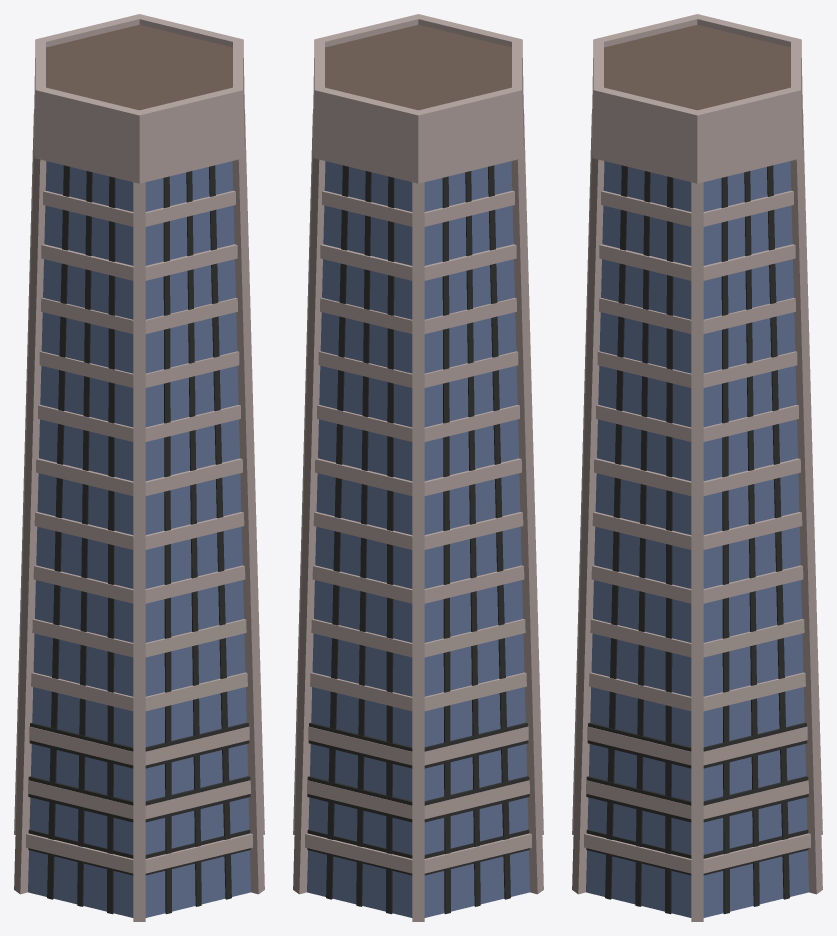
Rendered from LargeBuilding_02.fbx.
3 renders of one model, left to right at view 1: azimuth 30°, elevation 25°; view 2: azimuth 150°, elevation 25°; view 3: azimuth 270°, elevation 25°, orthographic.
Visible parts, largest first — view 1: LargeBuilding_02; view 2: LargeBuilding_02; view 3: LargeBuilding_02.
Part boxes in pixels (x1,y1,x2,y2): LargeBuilding_02: (14,14,264,921); LargeBuilding_02: (293,14,543,921); LargeBuilding_02: (572,14,822,921).
Size of the model in its own units: 19.61 by 61.13 by 17.42.
